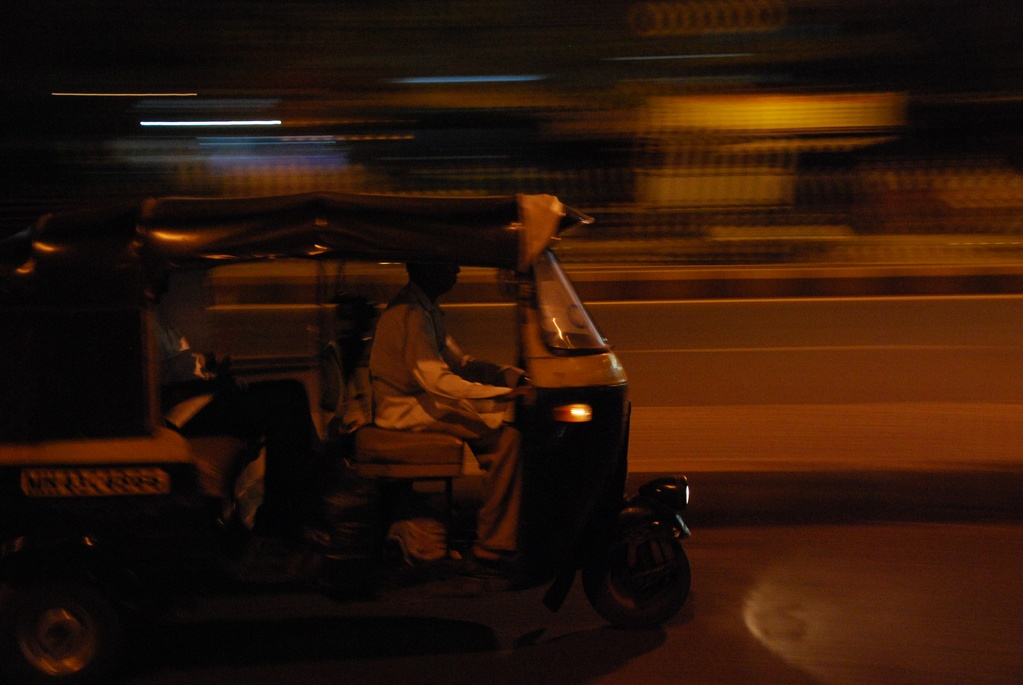rickshaw: (16, 188, 692, 685)
